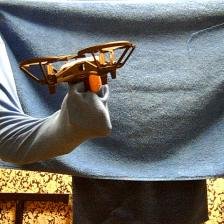drone: (21, 38, 139, 94)
